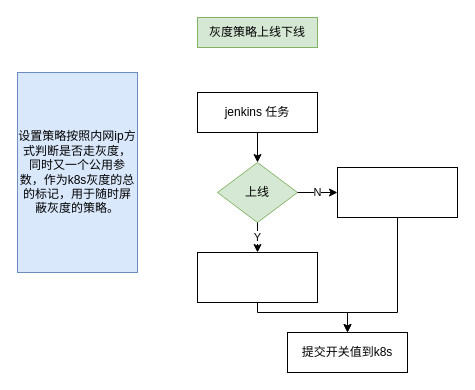
Some shapes in this 475 by 390 pixel diagram are drawn without their labels. The centre of each missing label's shape, as x and y in pixels:
设置为false: [397,192]
设置开关为true: [257,277]
